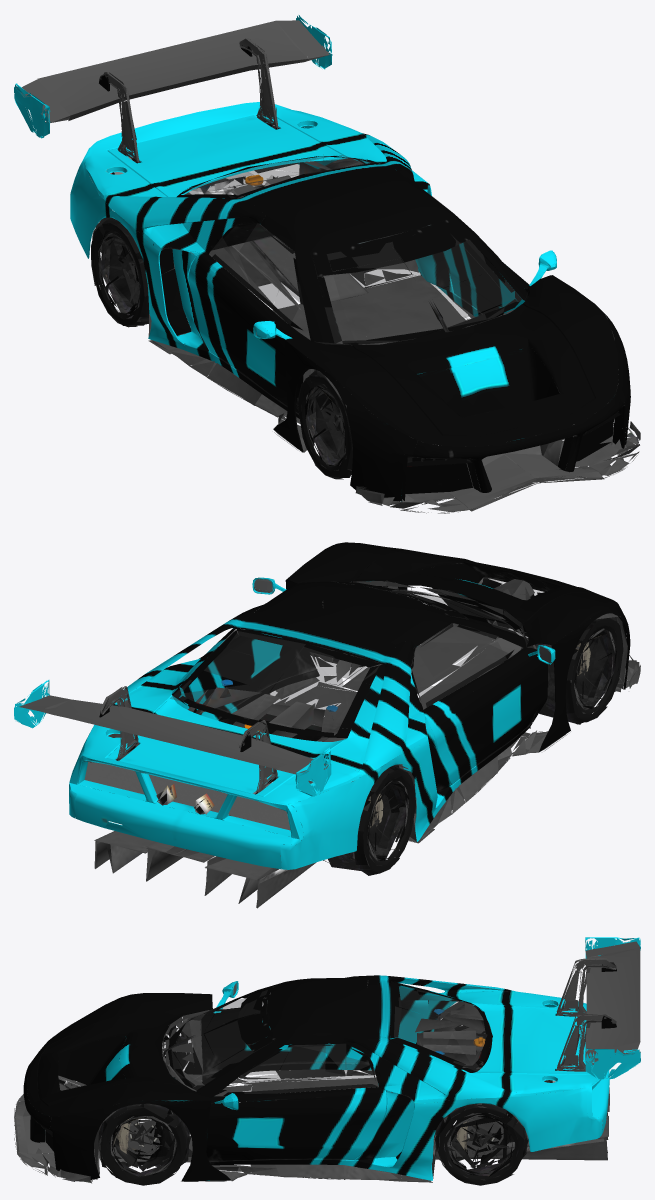
File: vector_gt3_lod2.glb
3 views of the same model, one above another, from view 1: azimuth 30°, elevation 25°; view 2: azimuth 150°, elevation 25°; view 3: azimuth 270°, elevation 25° (orthographic). The views are drawn at different scales.
Visible parts, largest first — view 1: Body, Wheel_RR, Wheel_FR; view 2: Body, Wheel_RR, Wheel_FR; view 3: Body, Wheel_FL, Wheel_RL, Wheel_FR.
Part boxes in pixels (x1,y1,x2,y2): Body: [14, 15, 640, 513]; Wheel_RR: [91, 217, 149, 327]; Wheel_FR: [297, 370, 352, 479]; Body: [14, 542, 640, 908]; Wheel_RR: [323, 765, 415, 875]; Wheel_FR: [535, 618, 623, 724]; Body: [14, 937, 640, 1183]; Wheel_FL: [98, 1100, 191, 1185]; Wheel_RL: [434, 1103, 528, 1185]; Wheel_FR: [115, 1020, 190, 1080].
Bounding box in the file's own units: 2.11 × 1.29 × 4.68.
Materials: 5 (5 with a texture image).
